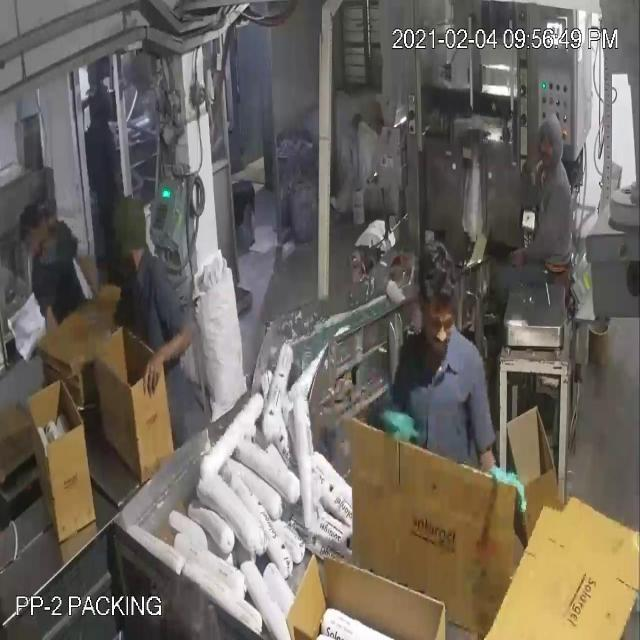No_Gloves: (133, 311, 201, 410)
